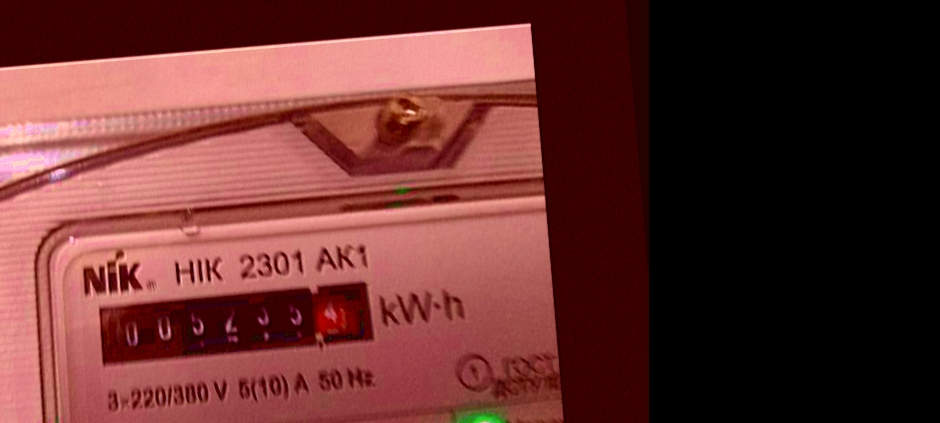0: (153, 310, 176, 345), (122, 317, 142, 349)
2: (219, 301, 243, 337)
3: (251, 297, 277, 331)
4: (319, 291, 344, 329)
5: (284, 293, 309, 331), (187, 305, 209, 340)
screen: (80, 268, 389, 379)
